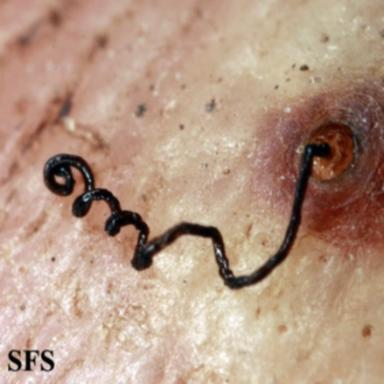Tungiasis: (44, 87, 384, 288)
